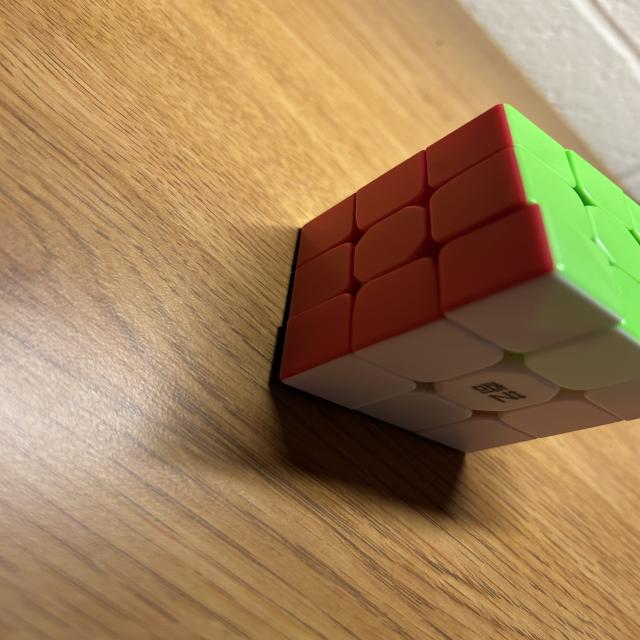Rubiks Cube: (280, 102, 640, 455)
